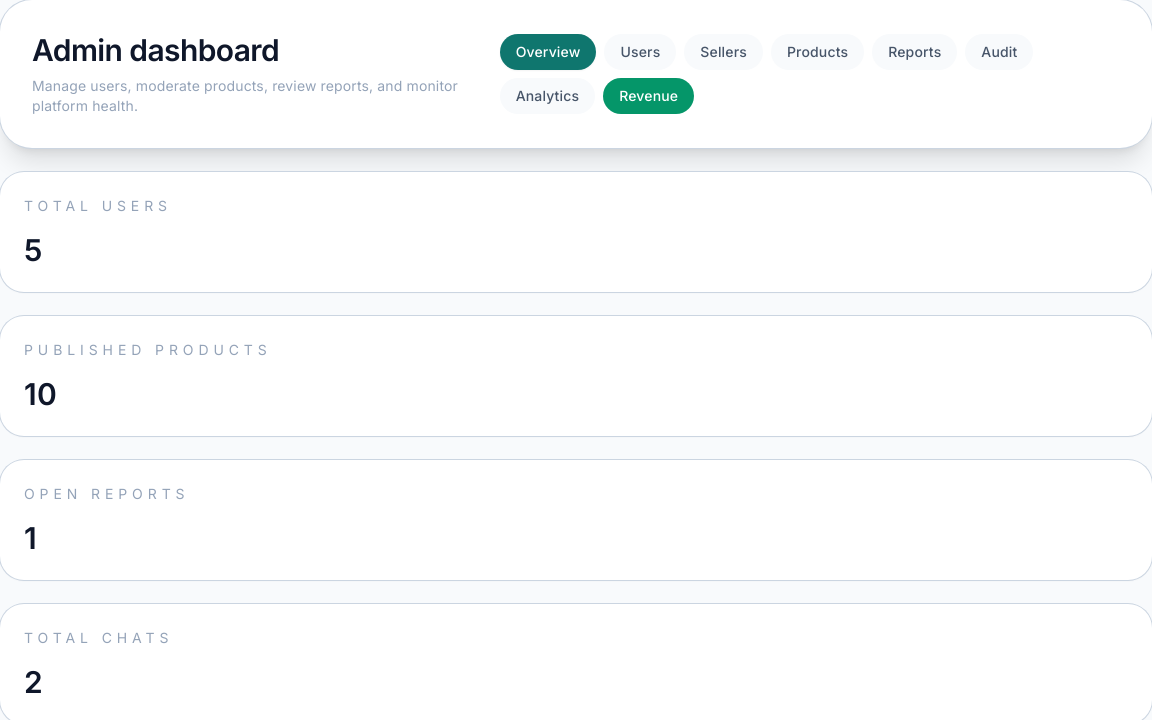
Test: AdminDashboardPage › renders overview metrics and allows tab navigation
Expected: the text "Total users" is shown, [24,197,172,214]
Expected: the text "5" is shown, [24,232,43,268]
Click the button "Users" at coordinates (640, 52), box [604,34,676,70]
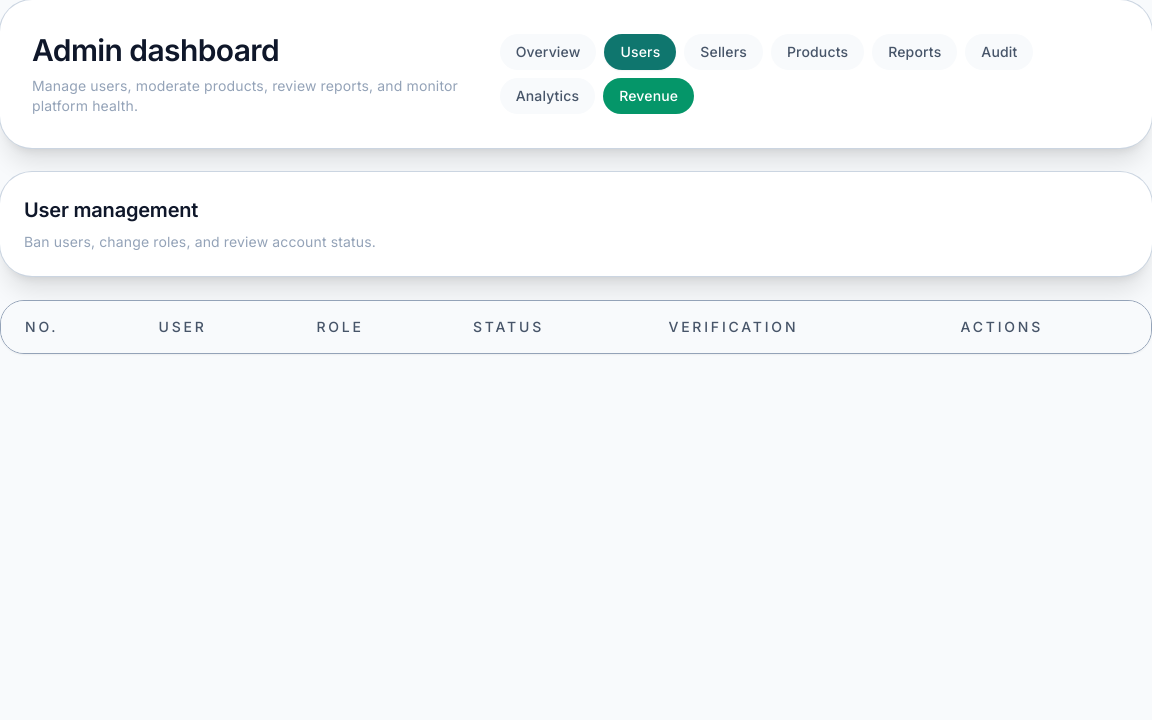
Now the heading "User management" is shown, box [24,198,198,222]
